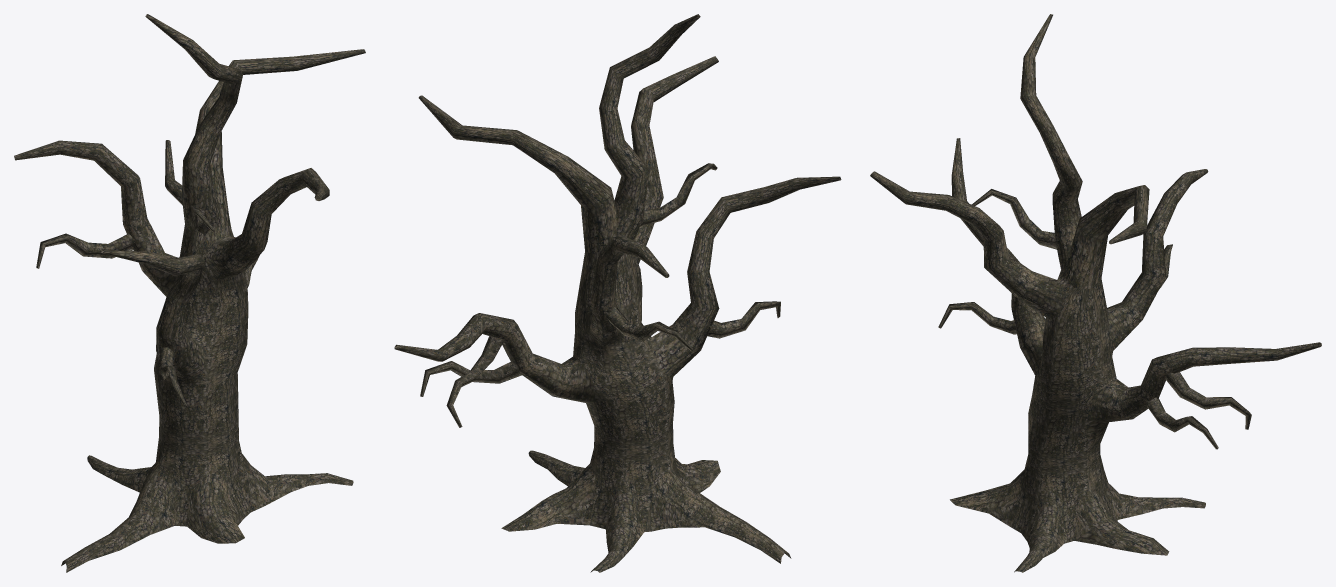
The model's file is EKH_ENTRANCE_PS_EN_TREE002__GX.fbx.
The picture shows the model from 3 angles, left to right: view 1: azimuth 30°, elevation 25°; view 2: azimuth 150°, elevation 25°; view 3: azimuth 270°, elevation 25°; orthographic projection. The views are drawn at different scales.
Visible parts, largest first — view 1: EKH_ENTRANCE_PS_EN_TREE002__GX; view 2: EKH_ENTRANCE_PS_EN_TREE002__GX; view 3: EKH_ENTRANCE_PS_EN_TREE002__GX.
Boxes of the visible parts, <box> form: EKH_ENTRANCE_PS_EN_TREE002__GX: <box>14,14,365,572</box>; EKH_ENTRANCE_PS_EN_TREE002__GX: <box>394,14,841,572</box>; EKH_ENTRANCE_PS_EN_TREE002__GX: <box>870,14,1321,572</box>.
Bounding box in the file's own units: 213646 × 315222 × 256792.
Materials: 3 (3 with a texture image).
